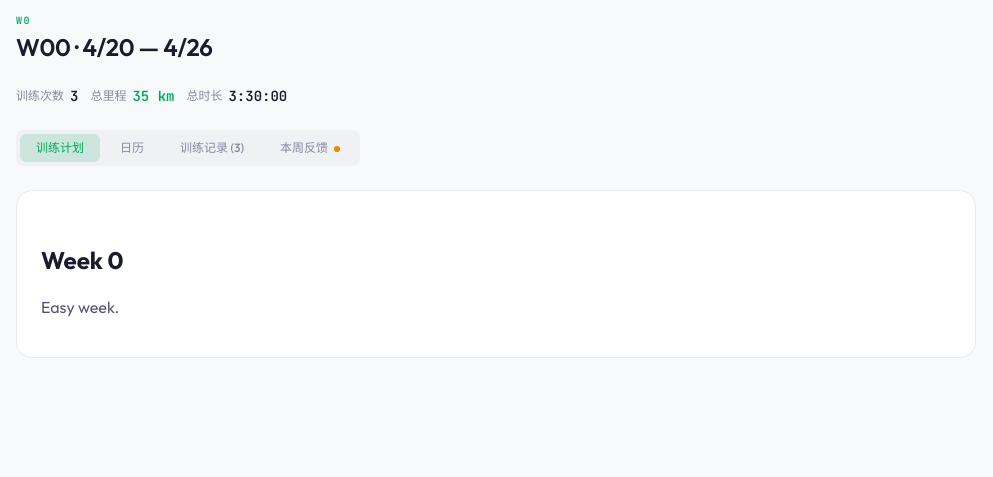
Test: WeekLayout — calendar tab › shows backfill banner when status=backfilled
Expected: the button "训练计划" is shown, [20,134,100,162]
Click the button "日历". click: click(132, 148)
box: [104,134,160,162]
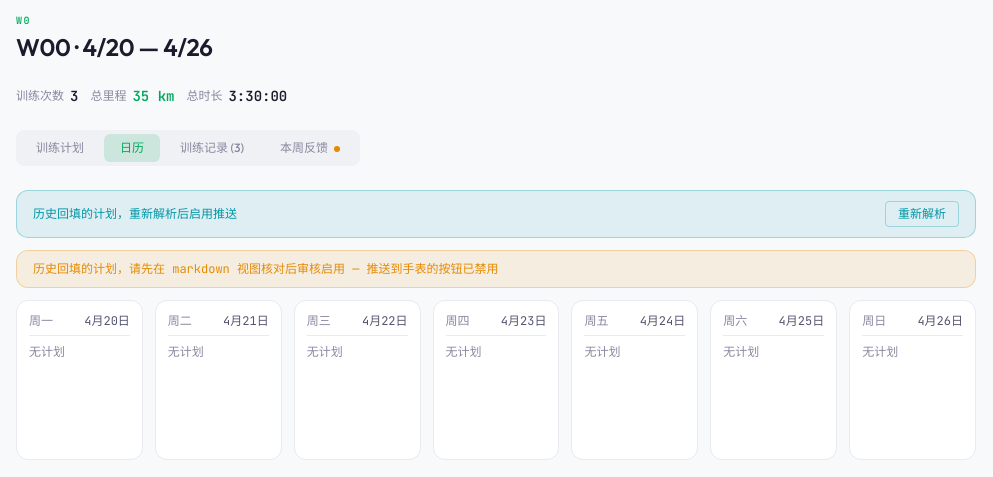
Now the element with test id "reparse-banner" is shown, box [16,190,976,238]
Now the message "历史回填的计划，请先在 markdown 视图核对后审核启用 — 推送到手表的按钮已禁用" is shown, box [16,250,976,288]
